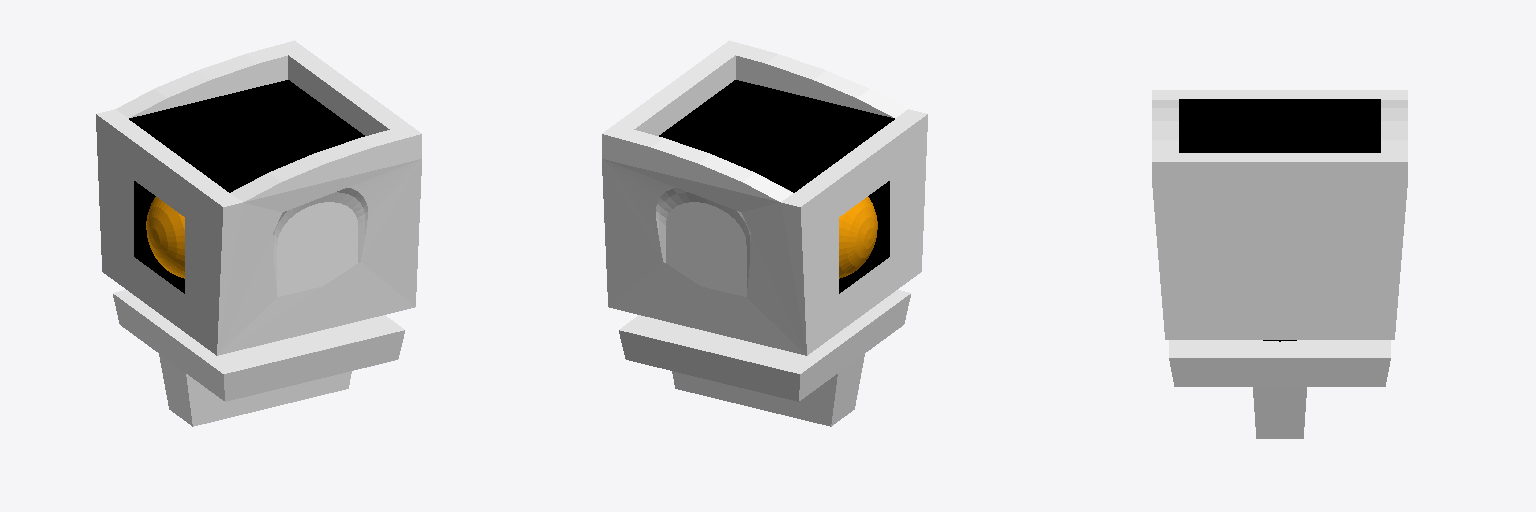
The model's file is body.obj.
3 views of the same model, side by side, from view 1: azimuth 30°, elevation 25°; view 2: azimuth 150°, elevation 25°; view 3: azimuth 270°, elevation 25° (orthographic).
Parts seen in each view (by area): view 1: body_Pelvis; view 2: body_Pelvis; view 3: body_Pelvis.
Boxes of the visible parts, <box> form: body_Pelvis: <box>96,40,421,426</box>; body_Pelvis: <box>602,40,927,426</box>; body_Pelvis: <box>1152,90,1407,438</box>.
Size of the model in its own units: 1.45 by 1.95 by 1.57.